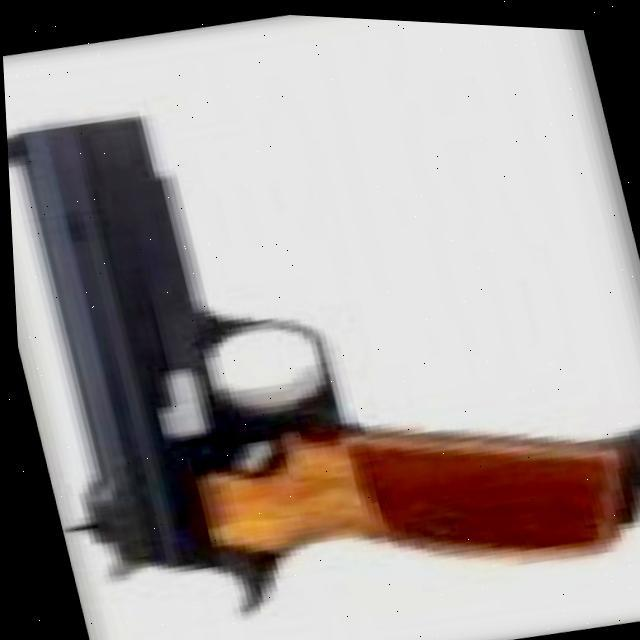gun: (1, 15, 640, 640)
